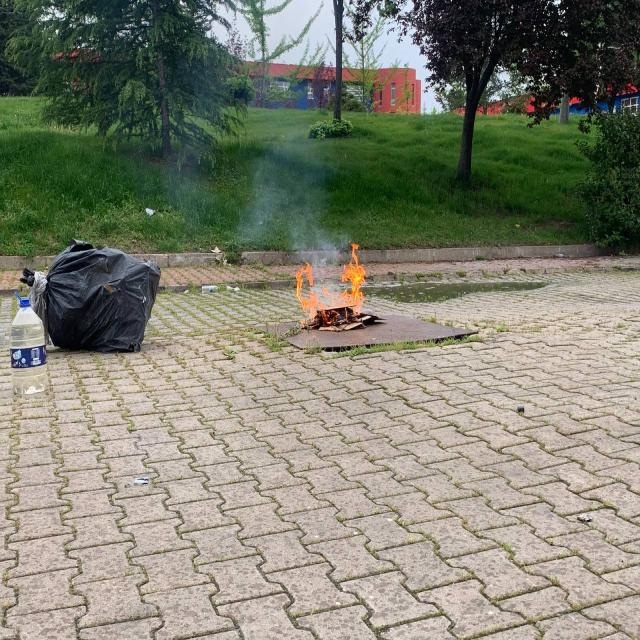fire: (282, 237, 374, 322)
